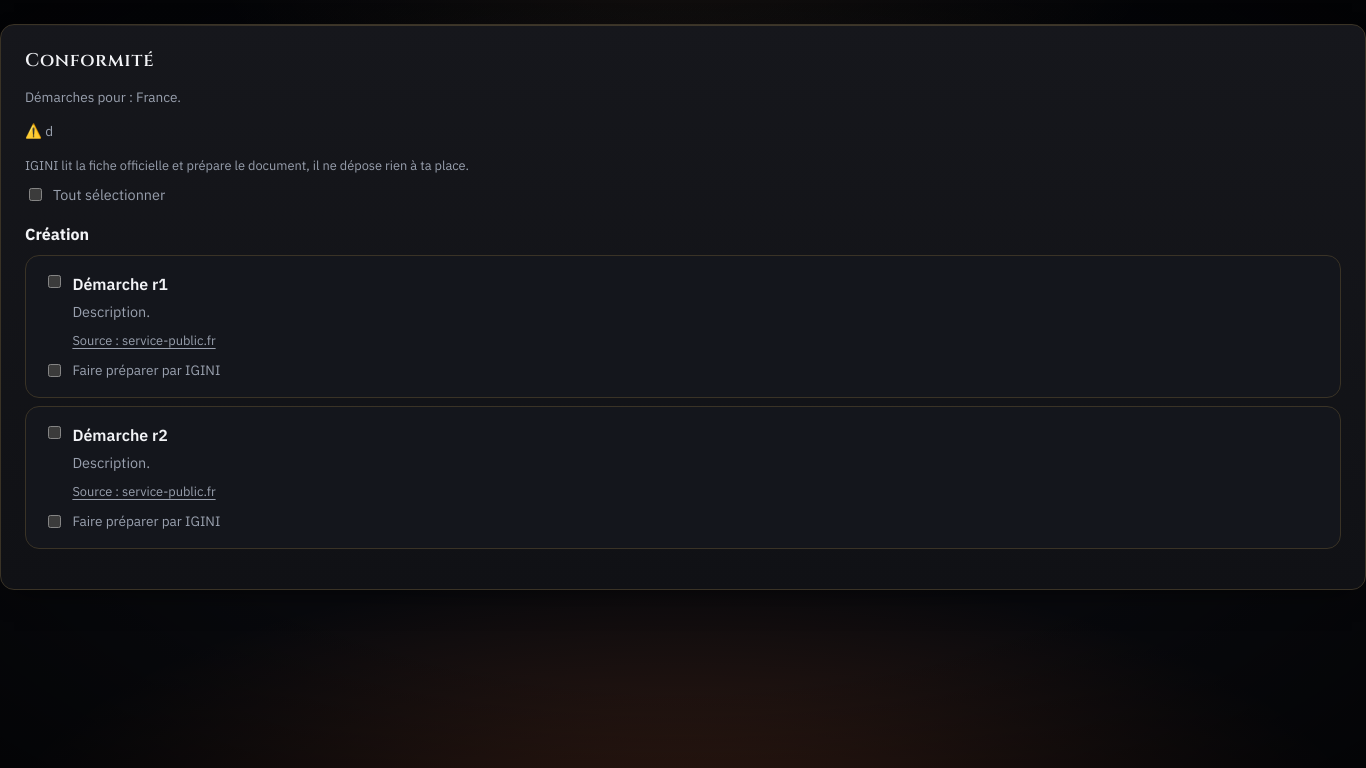
ComplianceSection — le prix de « Démarrer IGINI » › dit ce que coûte la sélection
Expected: the text "Démarche r1" is shown, [72,274,168,294]
Click the checkbox named "Faire faire : Démarche r1" at (55, 370), box [48,364,61,377]
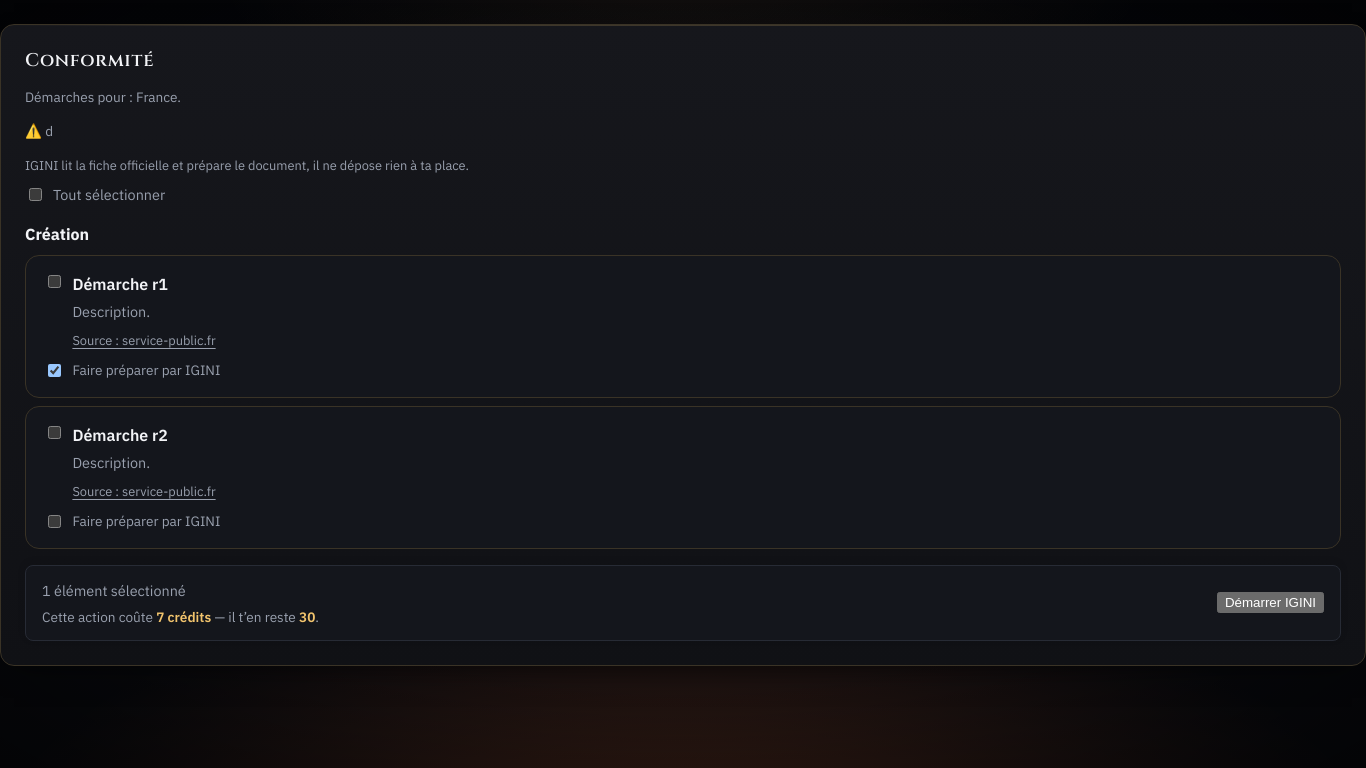
Click the checkbox named "Faire faire : Démarche r2" at (55, 521), box [48,515,61,528]
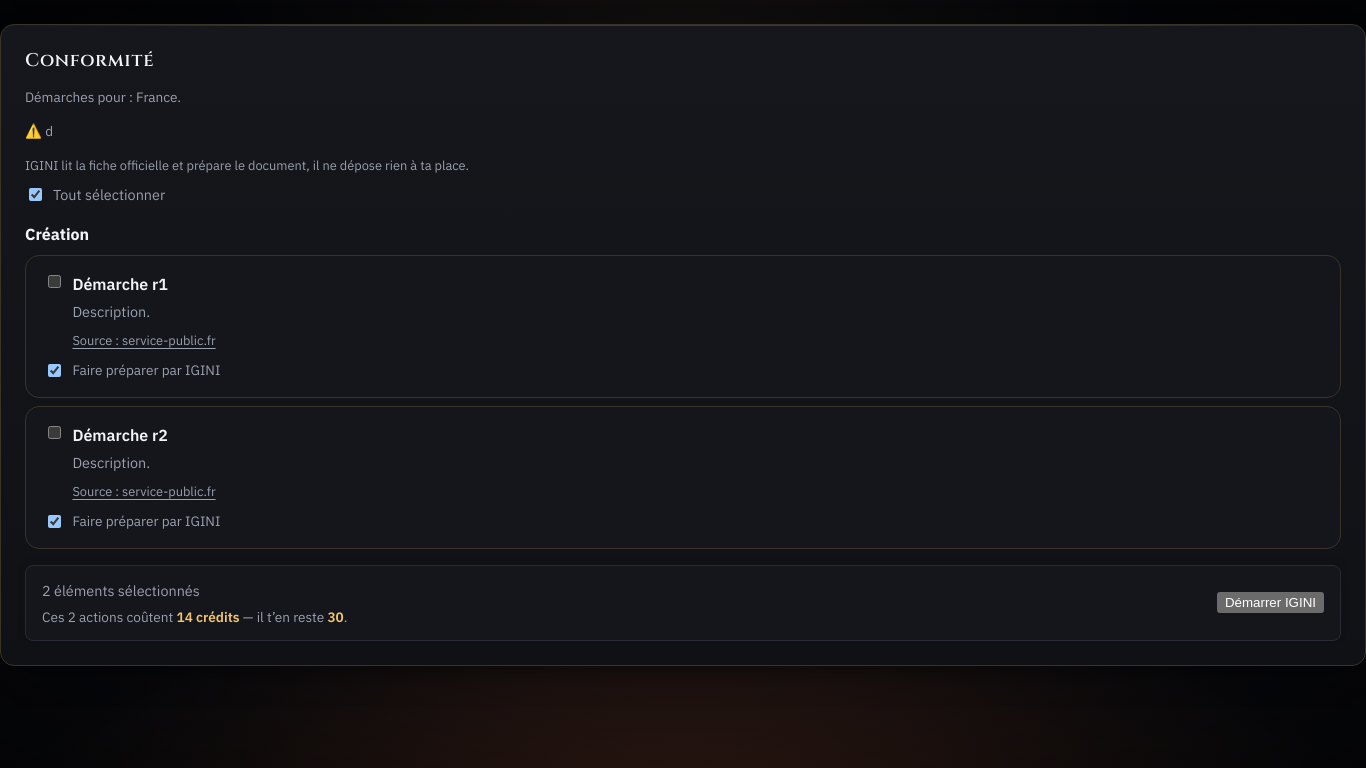
Now the button "Démarrer IGINI" is enabled, box [1217,592,1324,613]
Now the text "Ces 2 actions coûtent 14 crédits — il t’en reste 30." is shown, box [42,608,348,628]
